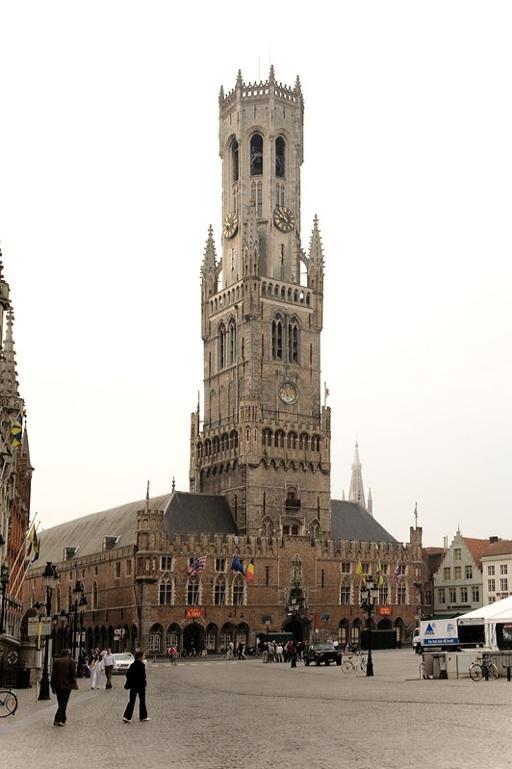non-vehicle: (467, 656, 502, 682), (339, 651, 372, 675), (0, 684, 19, 719), (169, 652, 177, 665)
